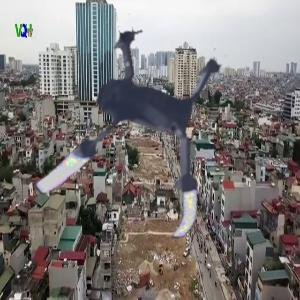drone: (10, 3, 259, 252)
